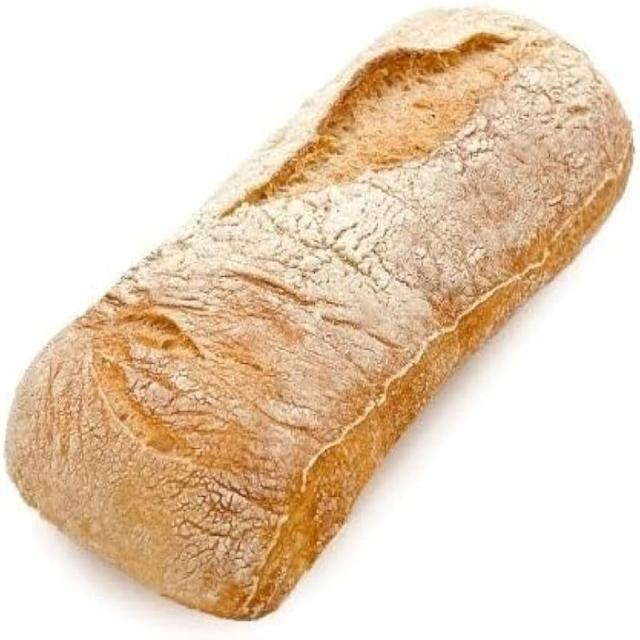Ciabatta: (7, 9, 633, 619)
